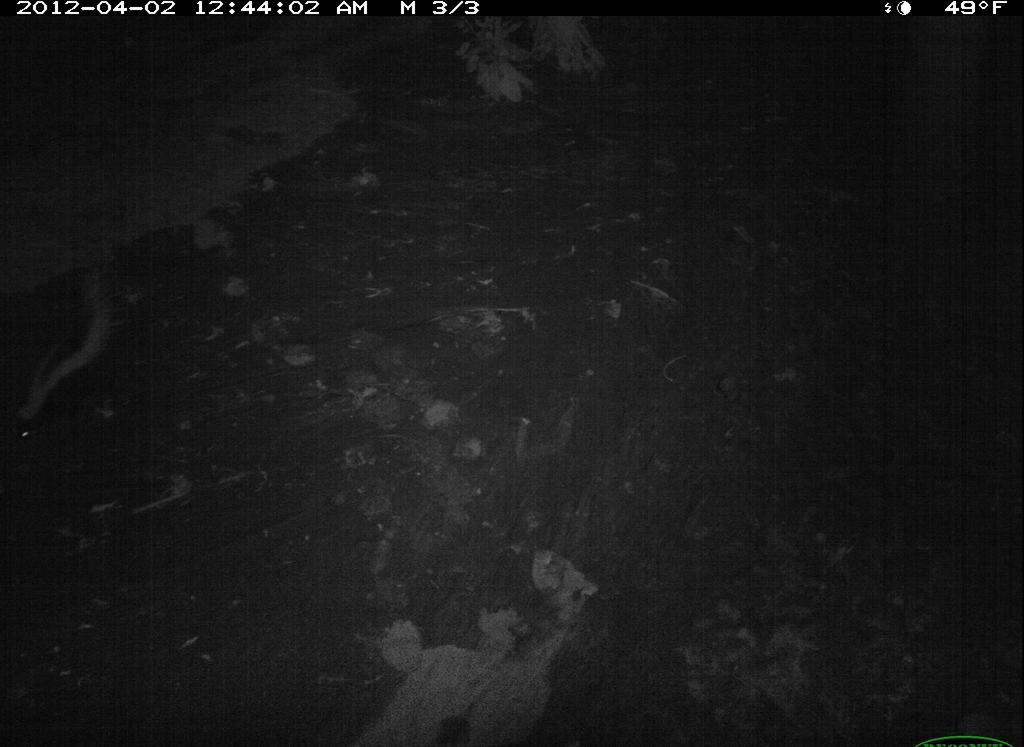skunk: (1, 269, 144, 474)
